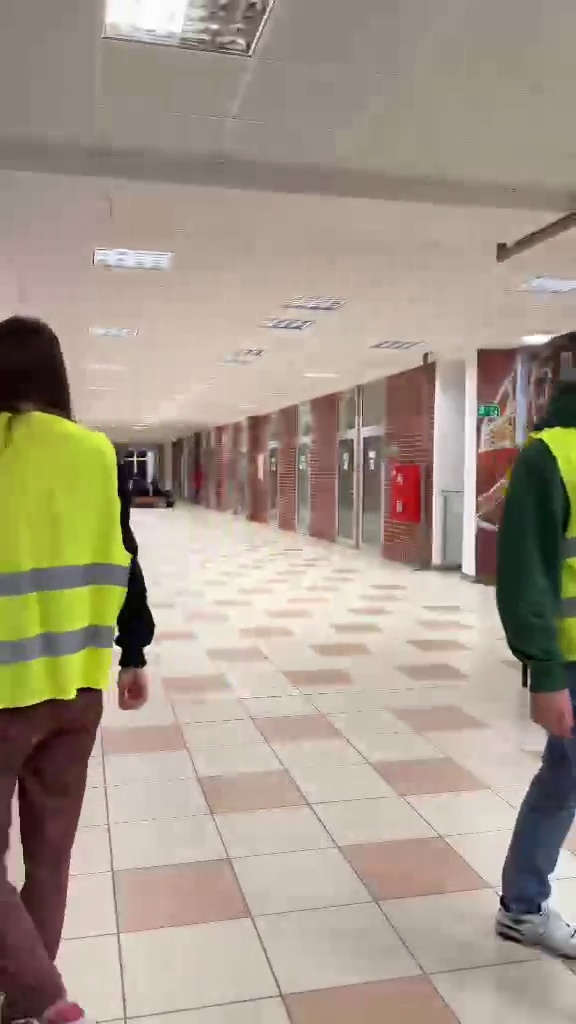vest: (0, 309, 150, 989), (503, 372, 576, 957)
